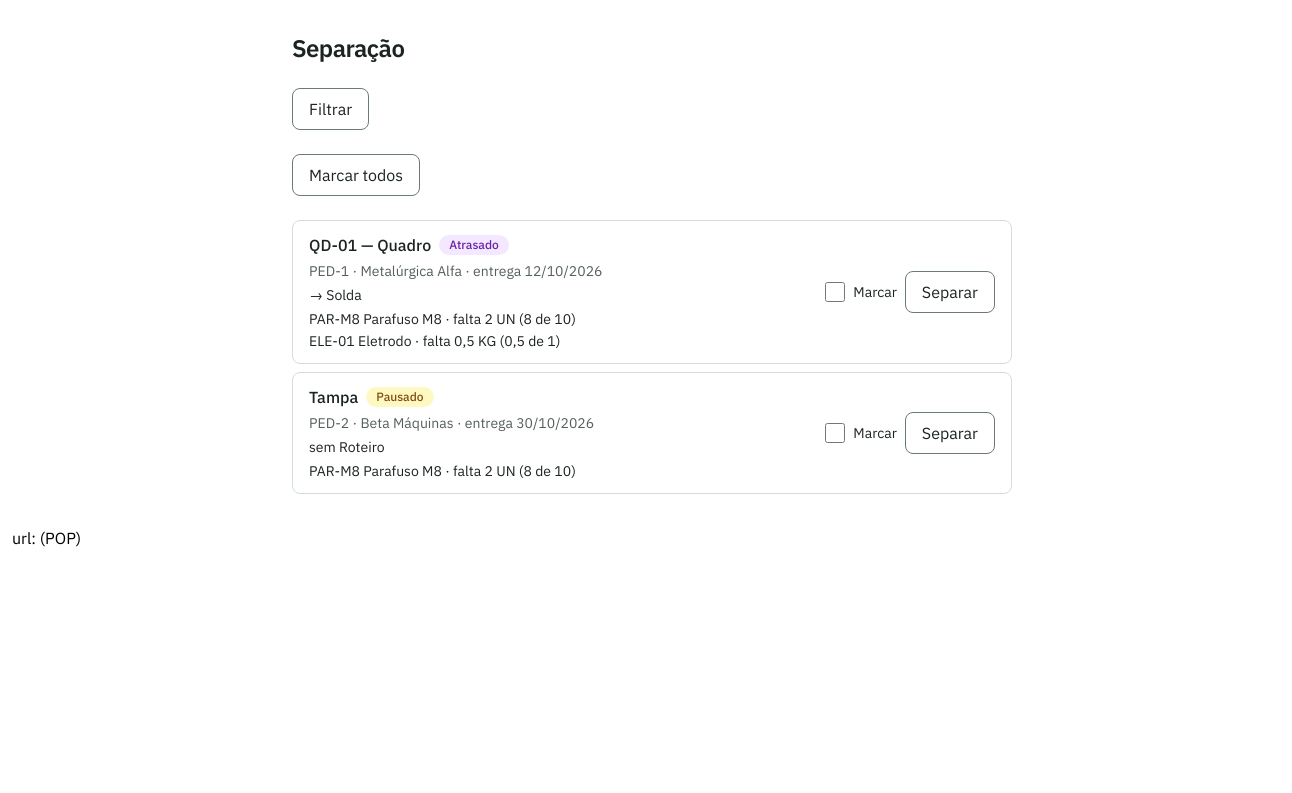
Scenario: SeparacaoPage › separar em lote › marcar fecha o painel individual aberto, e o Separar de cada cartão continua
Click the button with aria-label "Separar Tampa (PED-2)": (950, 433) left=905, top=412, right=995, bottom=454
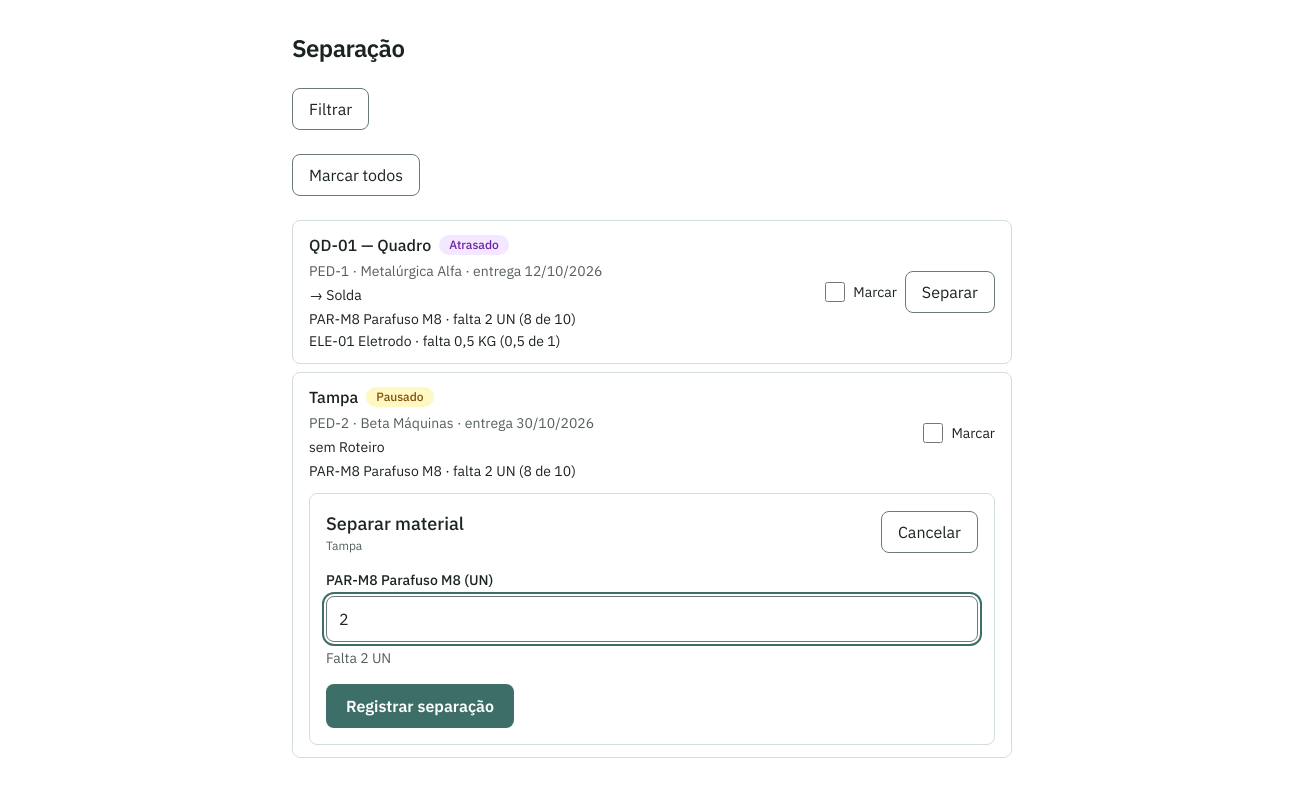
Expected: the form "Separar material" is shown, left=309, top=493, right=995, bottom=745
Click the checkbox named "Marcar QD-01 — Quadro (PED-1)": (835, 292) left=825, top=282, right=845, bottom=302
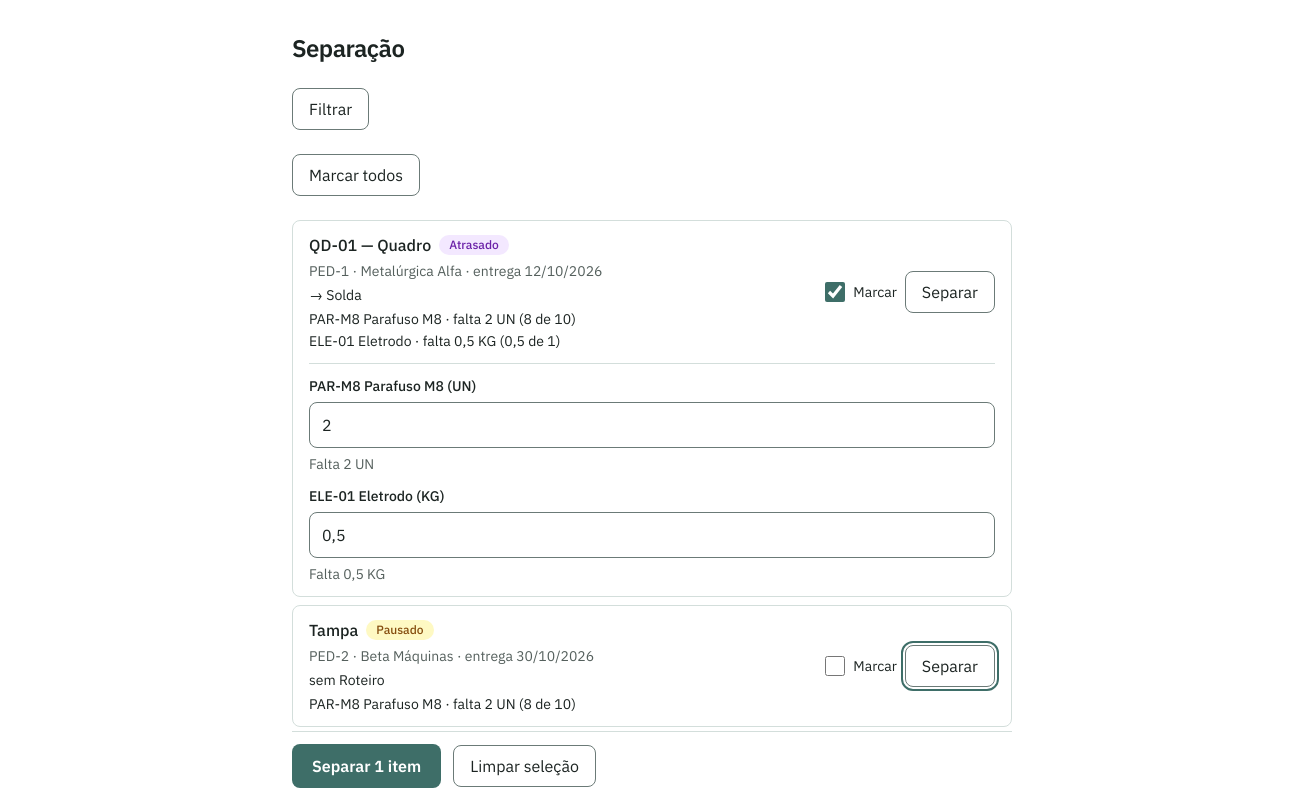
Expected: the button with aria-label "Separar QD-01 — Quadro (PED-1)" is shown, left=905, top=271, right=995, bottom=313
Expected: the heading "Separar material" is gone
Expected: the button with aria-label "Separar Tampa (PED-2)" is shown, left=905, top=645, right=995, bottom=687
